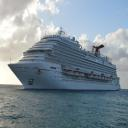cruises: (7, 21, 126, 97)
